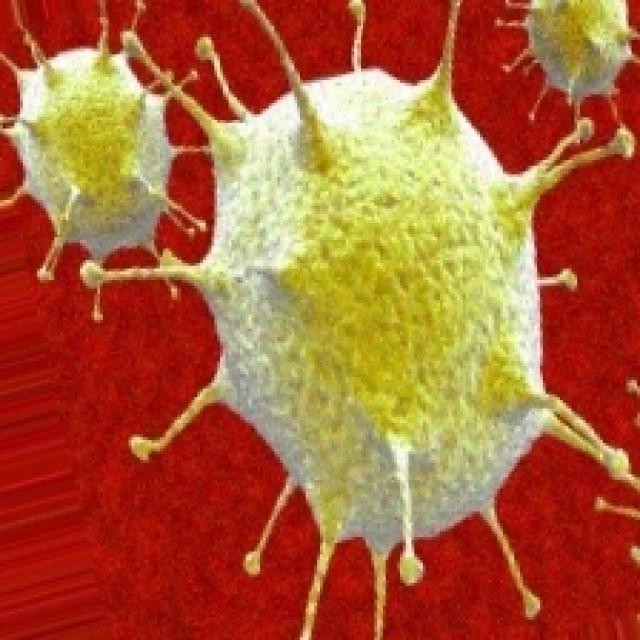Spherical_bacteria: (90, 1, 611, 640)
